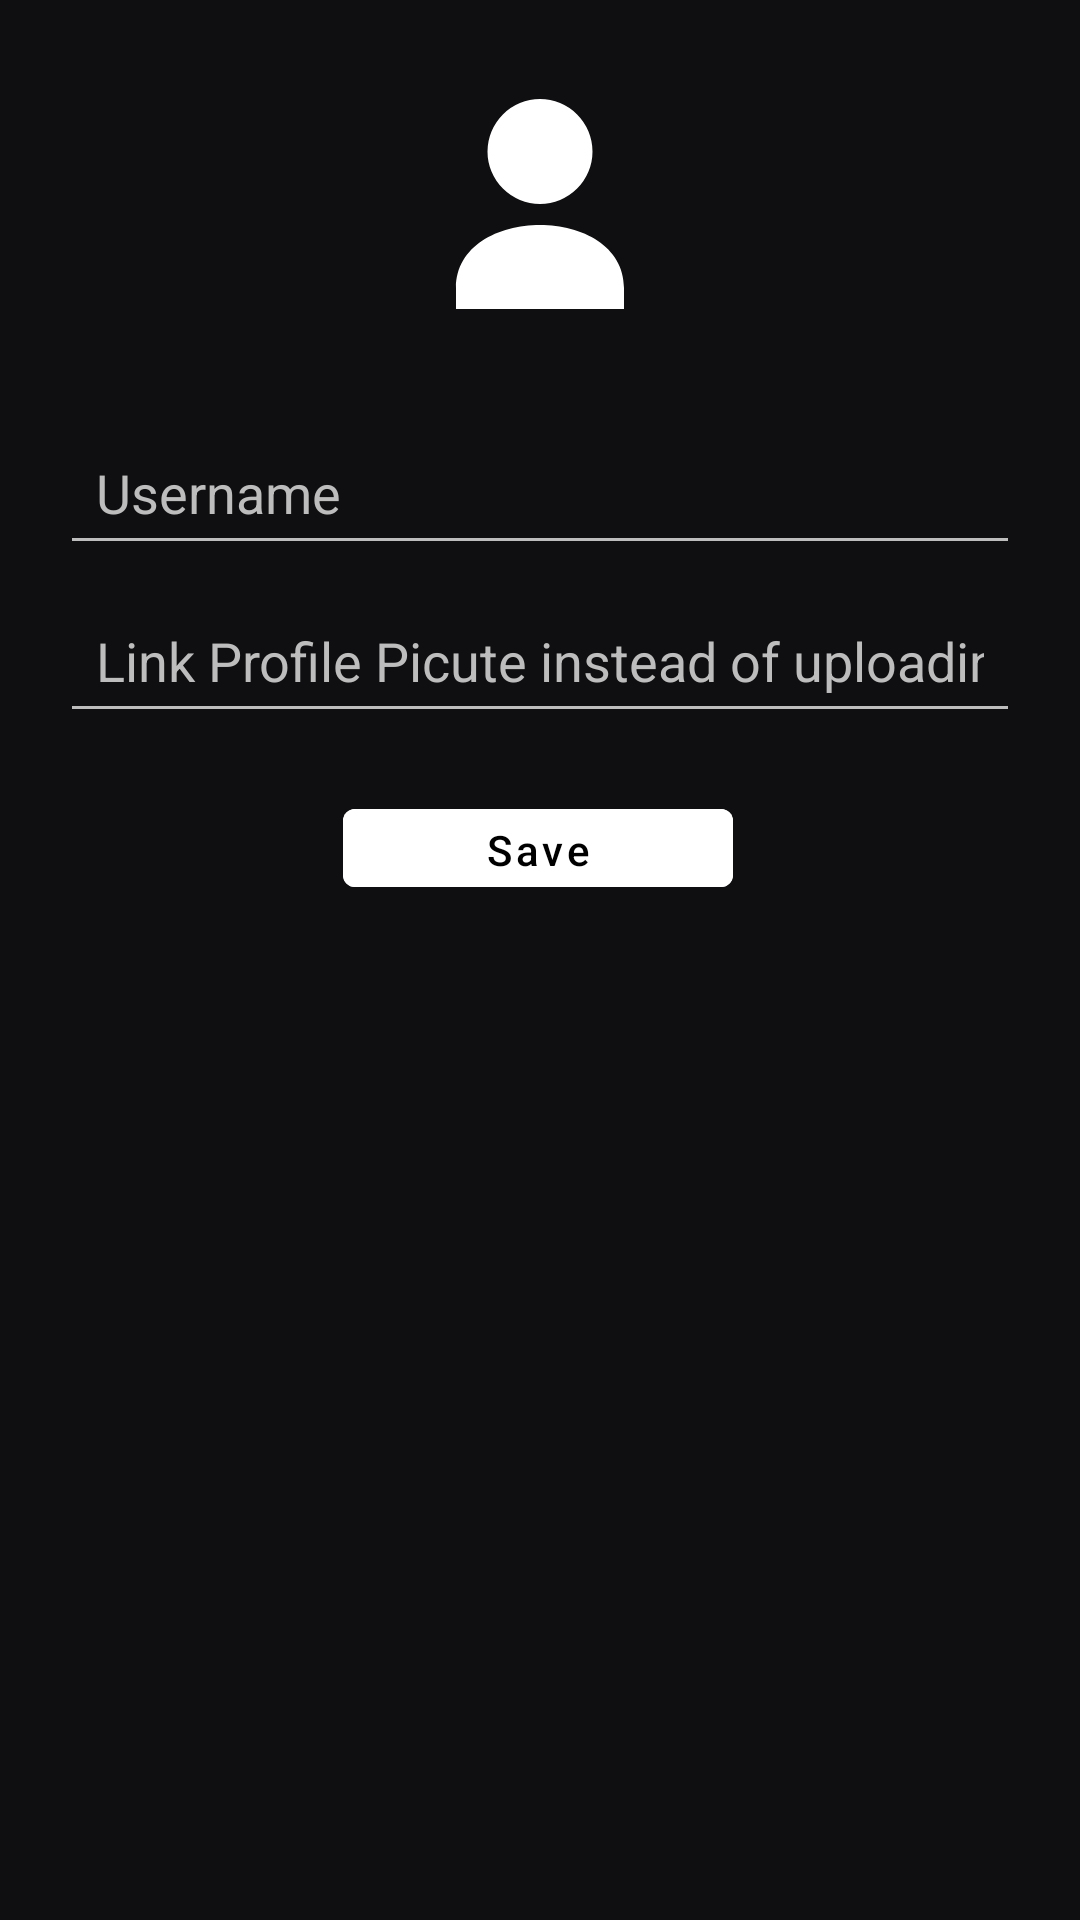

Icons on this 1080x1920 Android screen, each with the point to tap as (x,y):
Avatar: (540,204)
